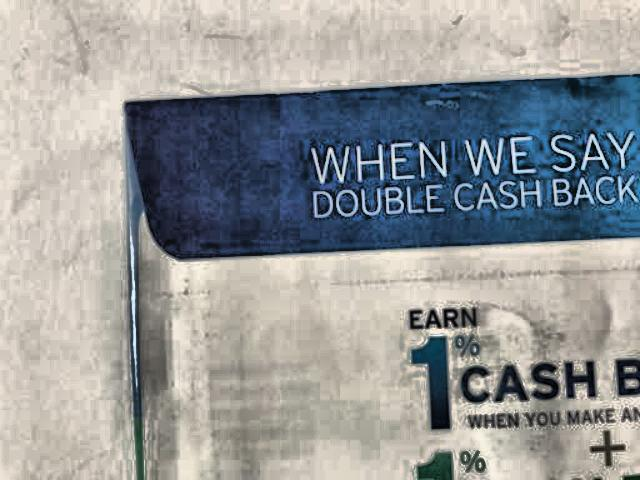Paper: (117, 66, 640, 480)
